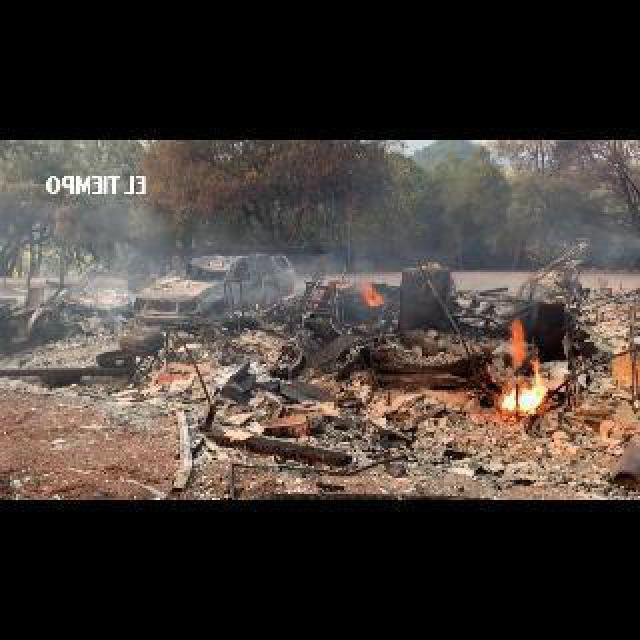zfire: (502, 368, 552, 410), (504, 322, 524, 364), (362, 282, 382, 306)
